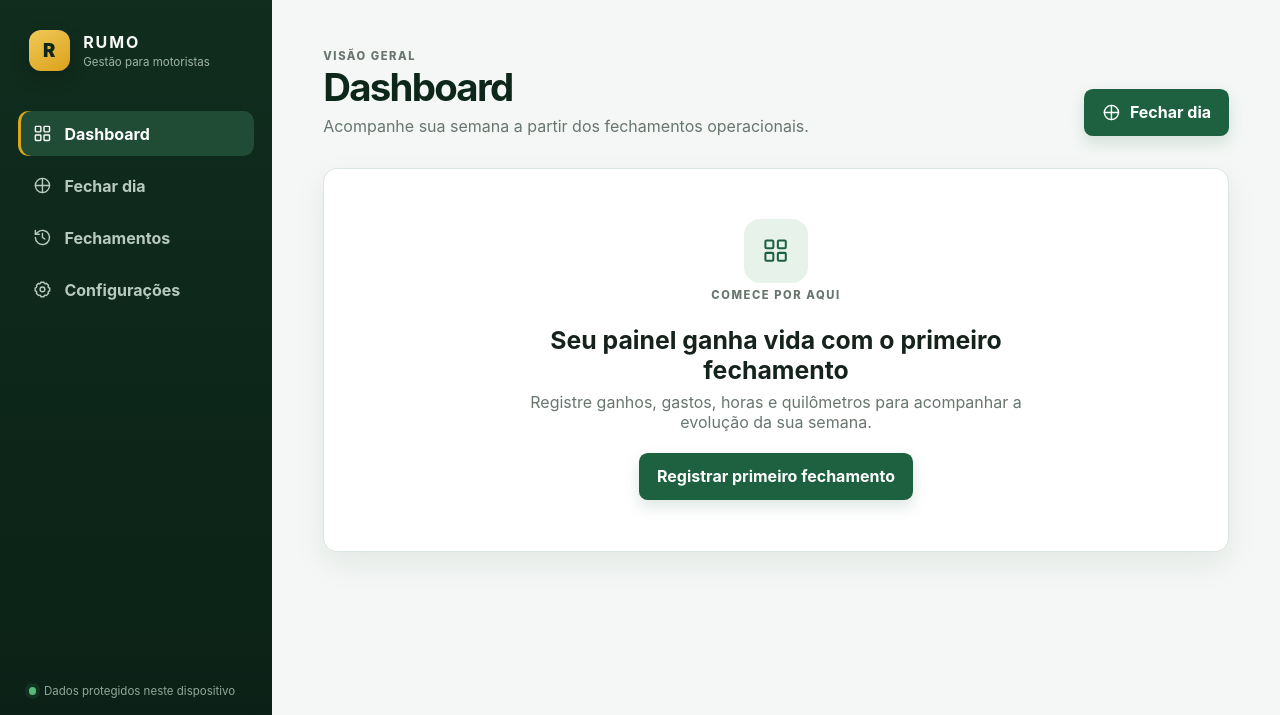
Test case: primeira vertical do aplicativo › renderiza o formulário e calcula o resumo enquanto o usuário digita
The width and height of the screenshot is (1280, 715).
Click the button "Fechar dia" below "Gestão para motoristas". click: (136, 186)
box: [18, 163, 254, 208]
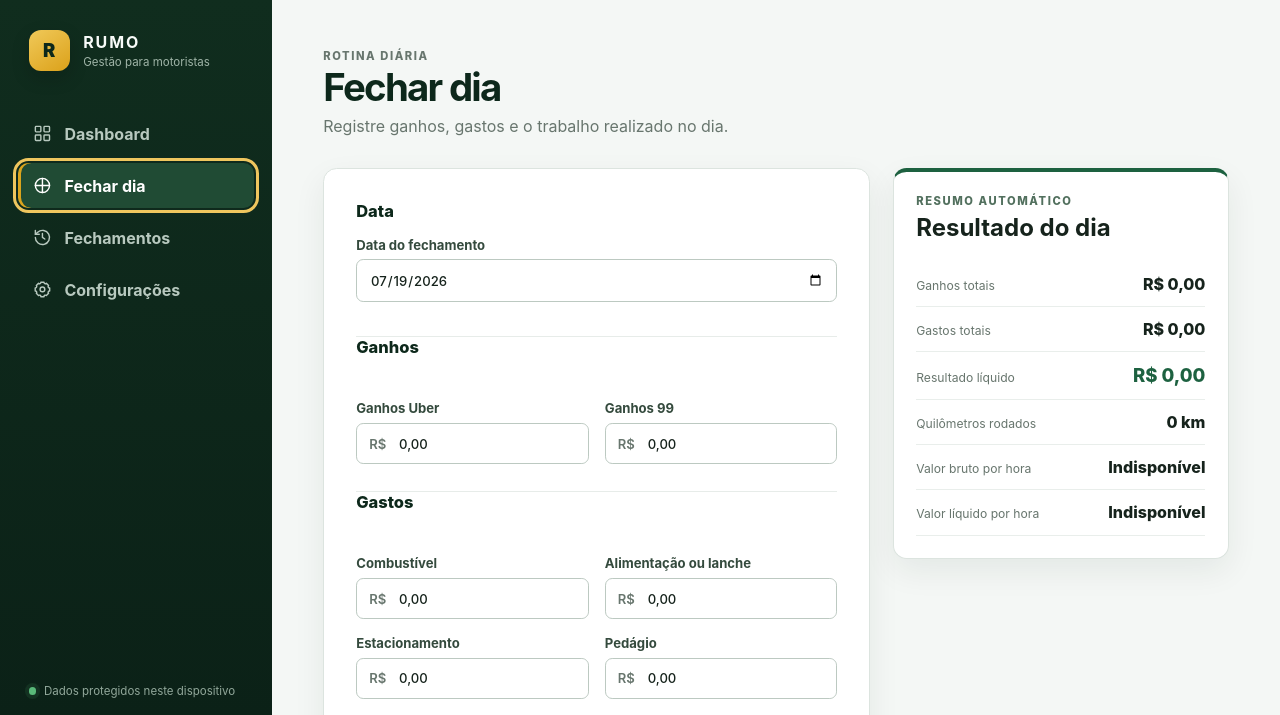
Replace the text in the field labelled "Ganhos Uber R$" with "100,00". click: (487, 444)
box: [386, 424, 588, 463]
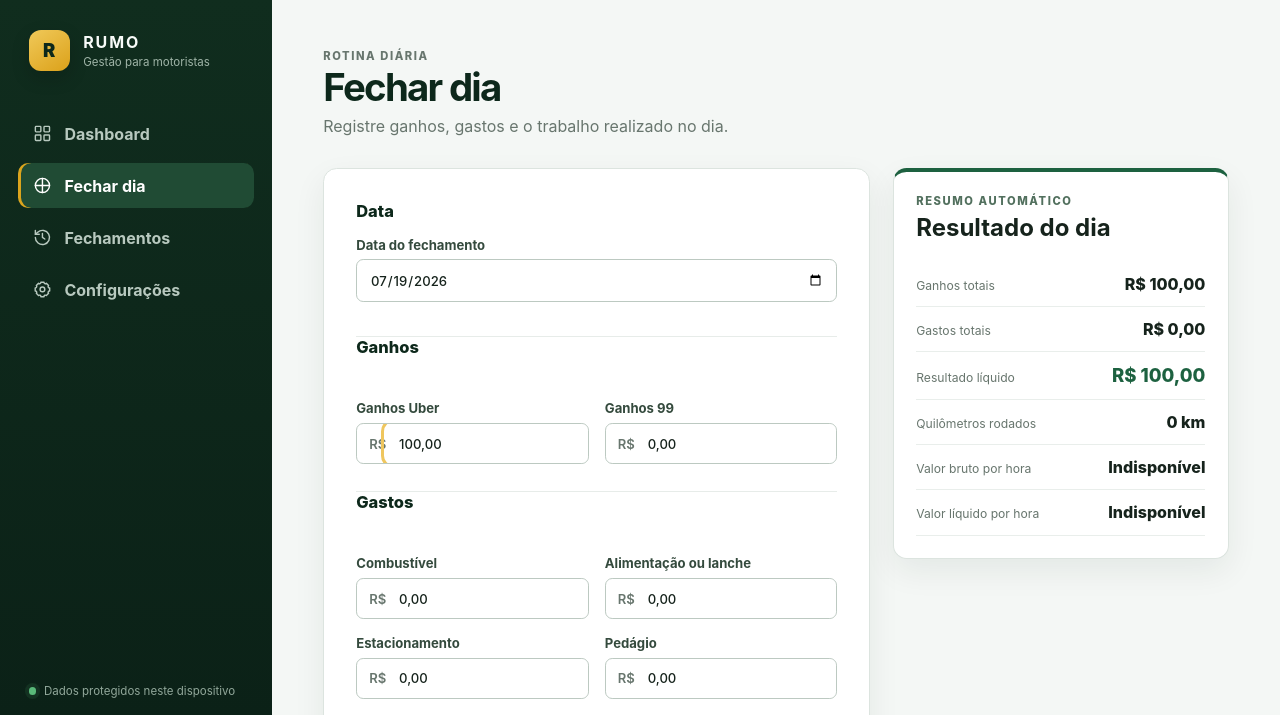
Replace the text in the field labelled "Ganhos 99 R$" with "50,00". click: (736, 444)
box: [635, 424, 836, 463]
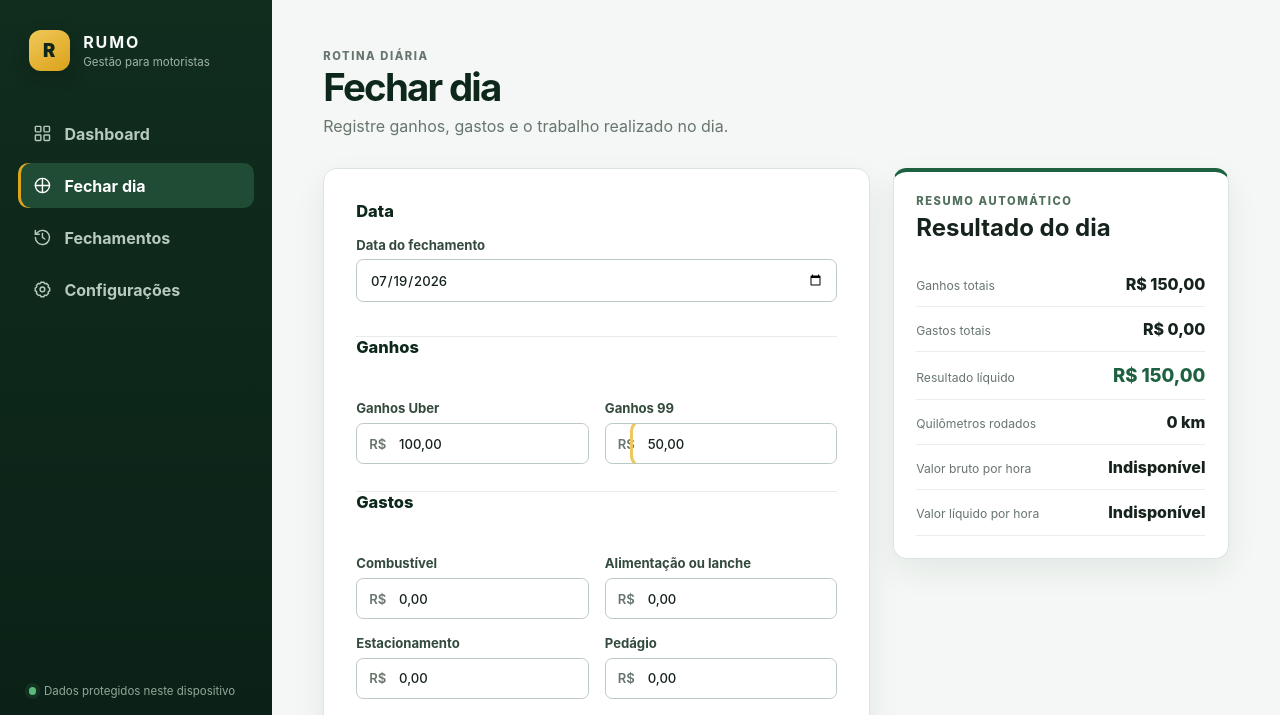
Replace the text in the field labelled "Combustível R$" with "30,00". click: (487, 599)
box: [386, 579, 588, 618]
(page scrolled)
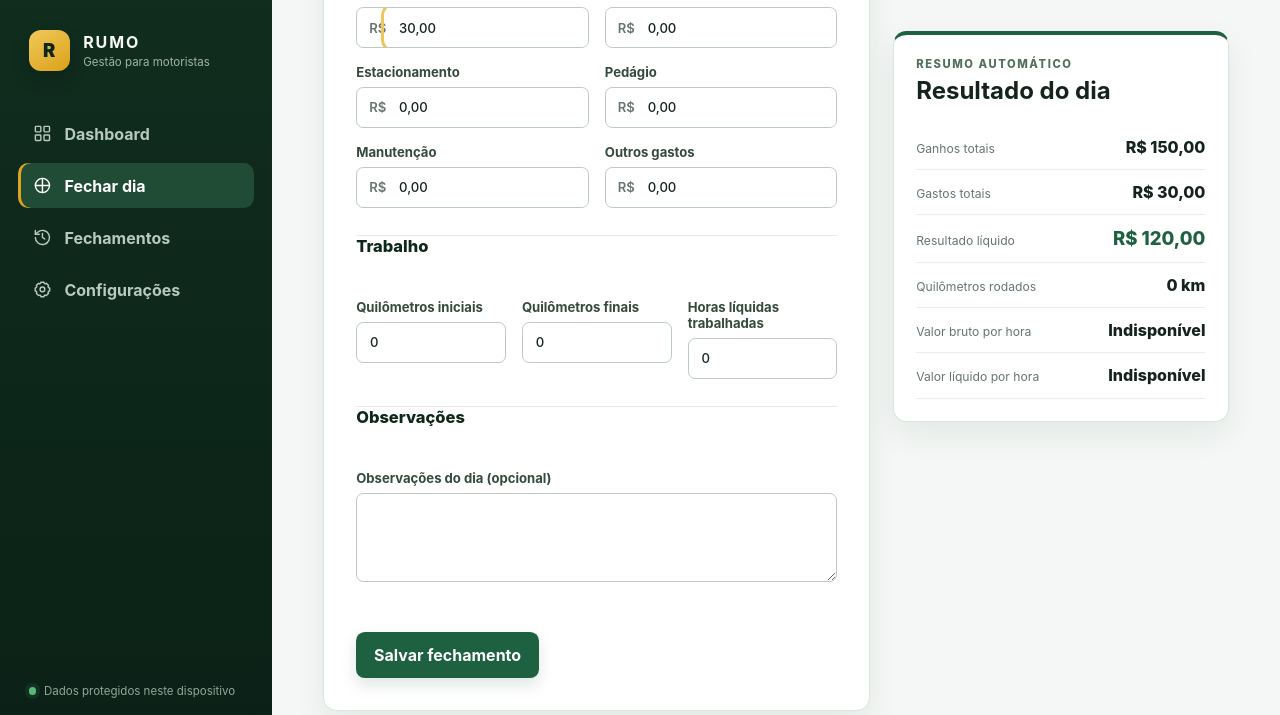
Replace the text in the field labelled "Horas líquidas trabalhadas" with "5". click: (763, 358)
box: [688, 338, 838, 379]
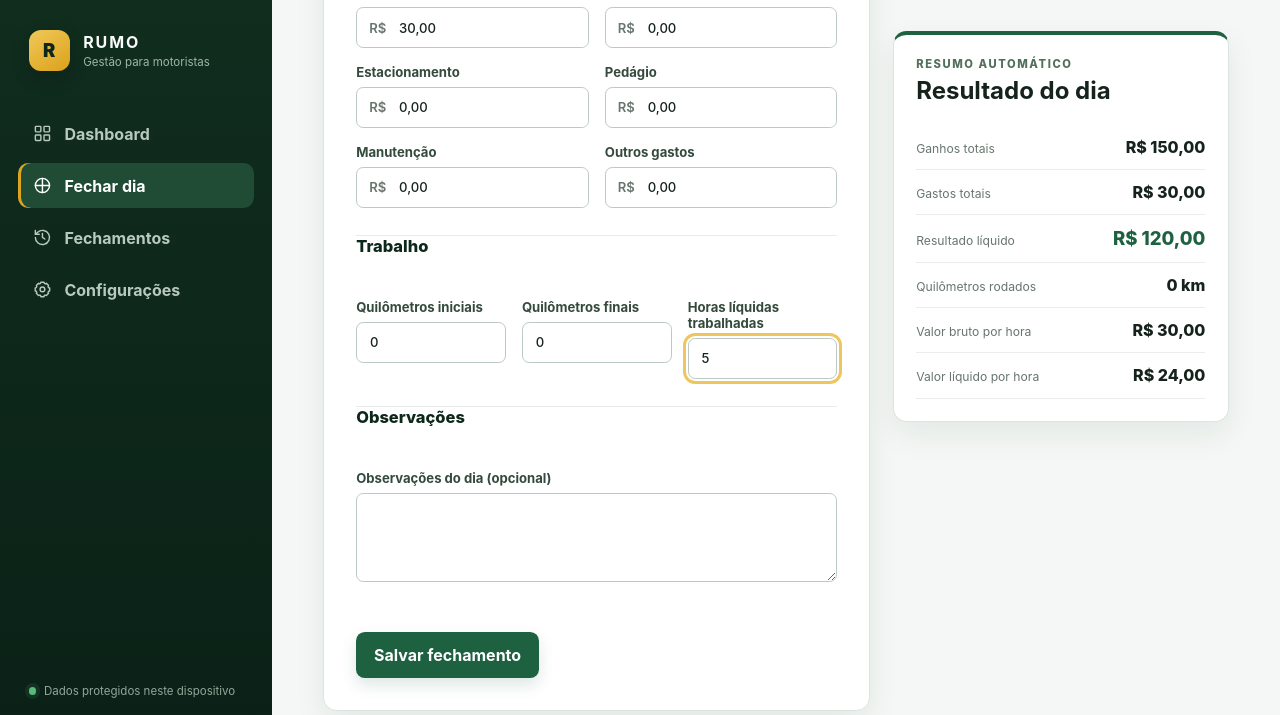
Expected: the text "R$ 150,00" is shown, [1126, 136, 1205, 156]
Expected: the text "R$ 30,00" is shown 2 times, [1132, 182, 1205, 202]; [1132, 320, 1205, 340]
Expected: the text "R$ 24,00" is shown, [1133, 365, 1205, 385]
